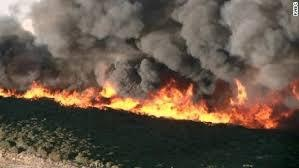fire: (5, 64, 276, 124)
